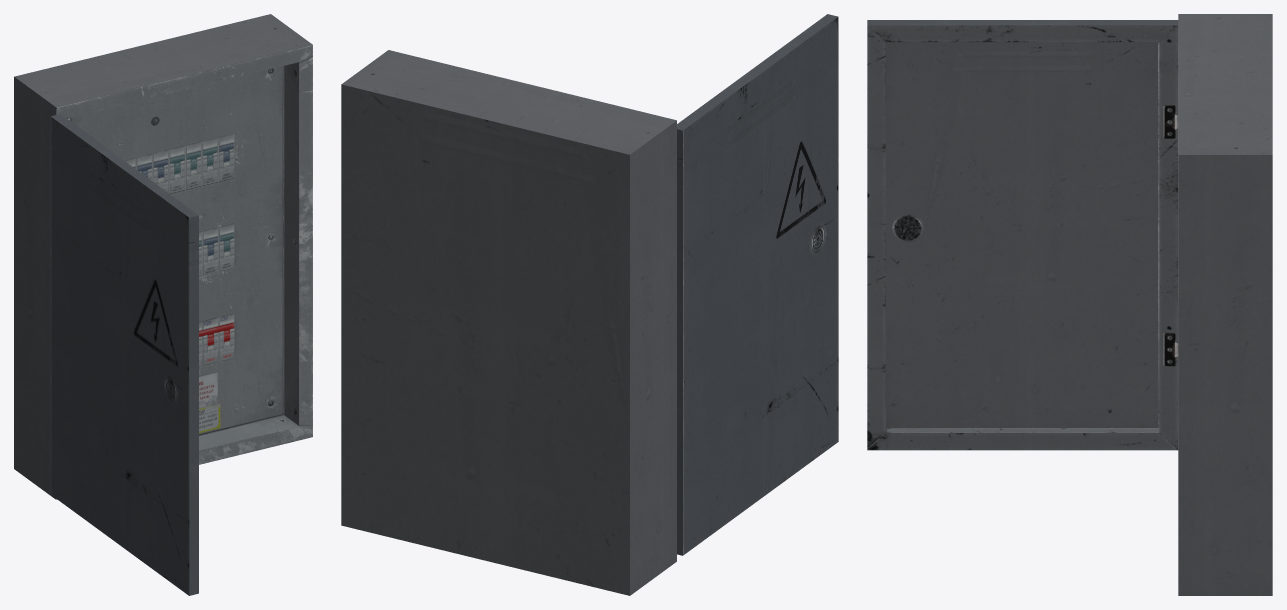
The model's file is cc0_free_low_poly_power_box.glb.
The picture shows the model from 3 angles, left to right: view 1: azimuth 30°, elevation 25°; view 2: azimuth 150°, elevation 25°; view 3: azimuth 270°, elevation 25°; orthographic projection. The views are drawn at different scales.
Parts seen in each view (by area): view 1: PowerBox, Lid; view 2: PowerBox, Lid; view 3: Lid, PowerBox.
Part boxes in pixels (x1,y1,x2,y2): PowerBox: (14,14,312,499); Lid: (50,114,198,595); PowerBox: (341,50,676,595); Lid: (677,14,838,555); Lid: (867,20,1178,450); PowerBox: (1178,14,1272,595).
Size of the model in its own units: 0.3528 by 0.5049 by 0.4206.
Materials: 1 (1 with a texture image).
